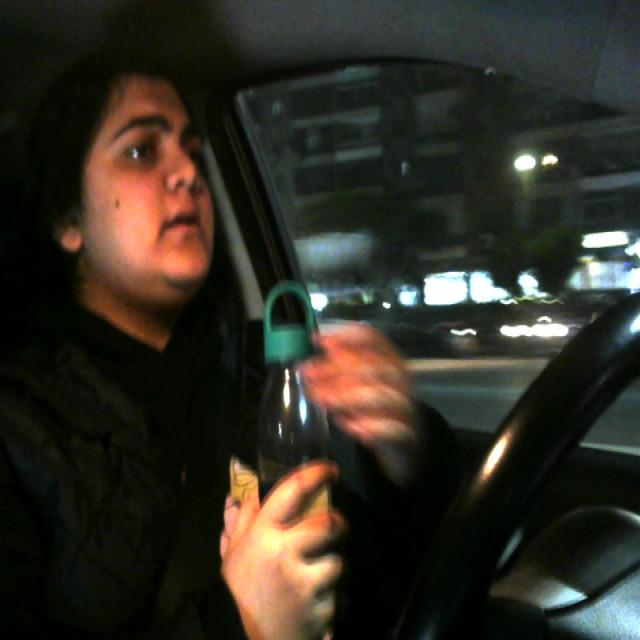drinking: (260, 281, 337, 628)
